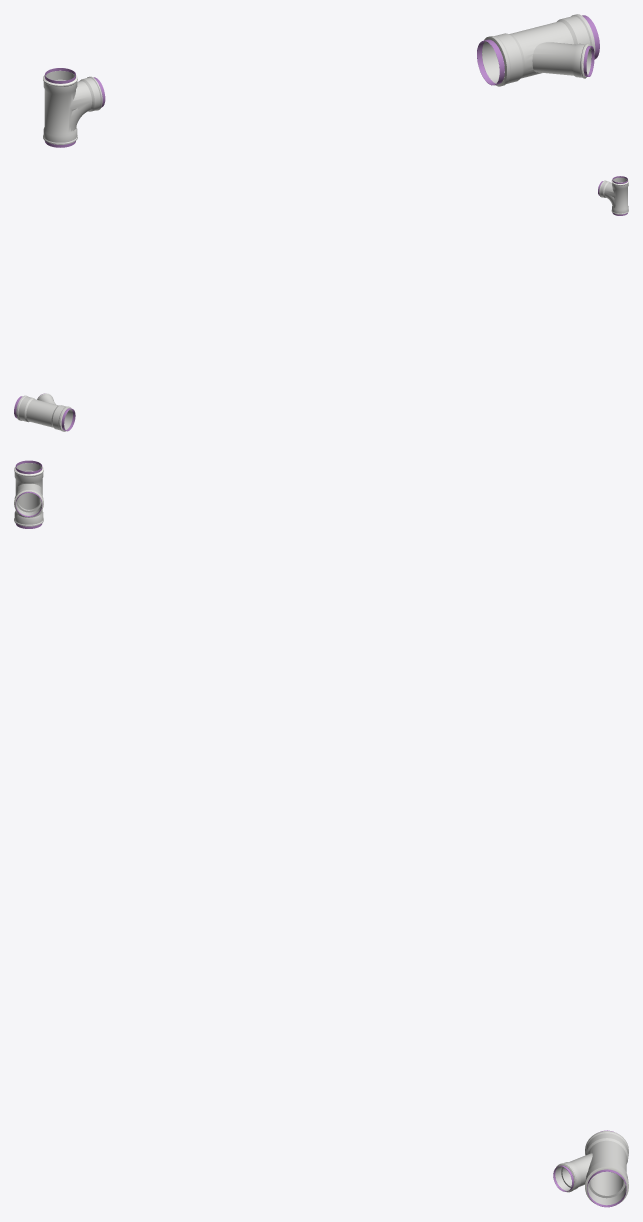
File: slab_pipes_dwv__sewer__9442971a.glb
3 views of the same model, one above another, from view 1: azimuth 30°, elevation 25°; view 2: azimuth 150°, elevation 25°; view 3: azimuth 270°, elevation 25° (orthographic). The views are drawn at different scales.
Visible parts, largest first — view 1: fit_wye_pipe_dwv_kitchen, fit_tee_pipe_dwv_kitchen; view 2: fit_wye_pipe_dwv_kitchen, fit_tee_pipe_dwv_kitchen; view 3: fit_wye_pipe_dwv_kitchen, fit_tee_pipe_dwv_kitchen.
Boxes of the visible parts, <box> form: fit_wye_pipe_dwv_kitchen: <box>477,14,599,86</box>; fit_tee_pipe_dwv_kitchen: <box>43,68,105,147</box>; fit_wye_pipe_dwv_kitchen: <box>14,393,75,431</box>; fit_tee_pipe_dwv_kitchen: <box>598,176,628,215</box>; fit_wye_pipe_dwv_kitchen: <box>553,1130,628,1207</box>; fit_tee_pipe_dwv_kitchen: <box>14,460,43,528</box>.
Bounding box in the file's own units: 1.99 × 0.9617 × 1.4.
